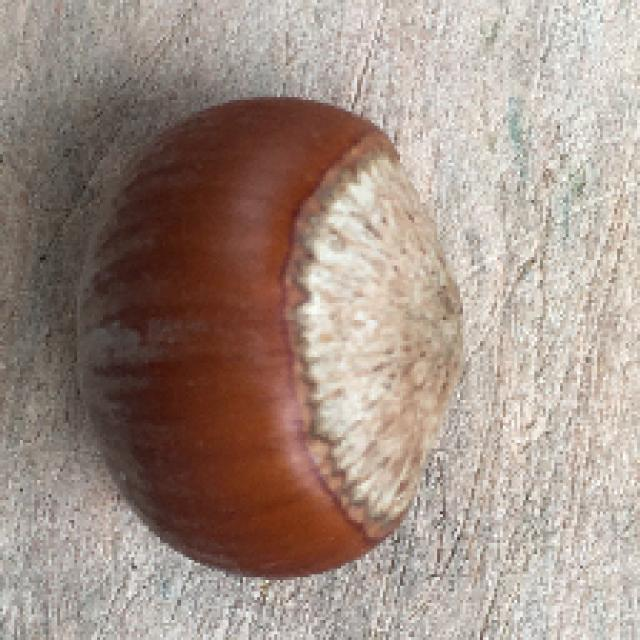qualityHazelnut: (86, 90, 463, 590)
